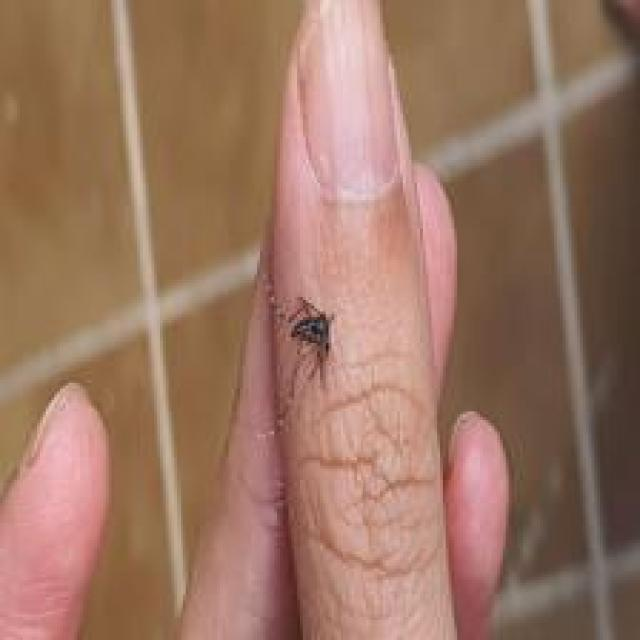Aedes albopictus: (286, 296, 334, 384)
